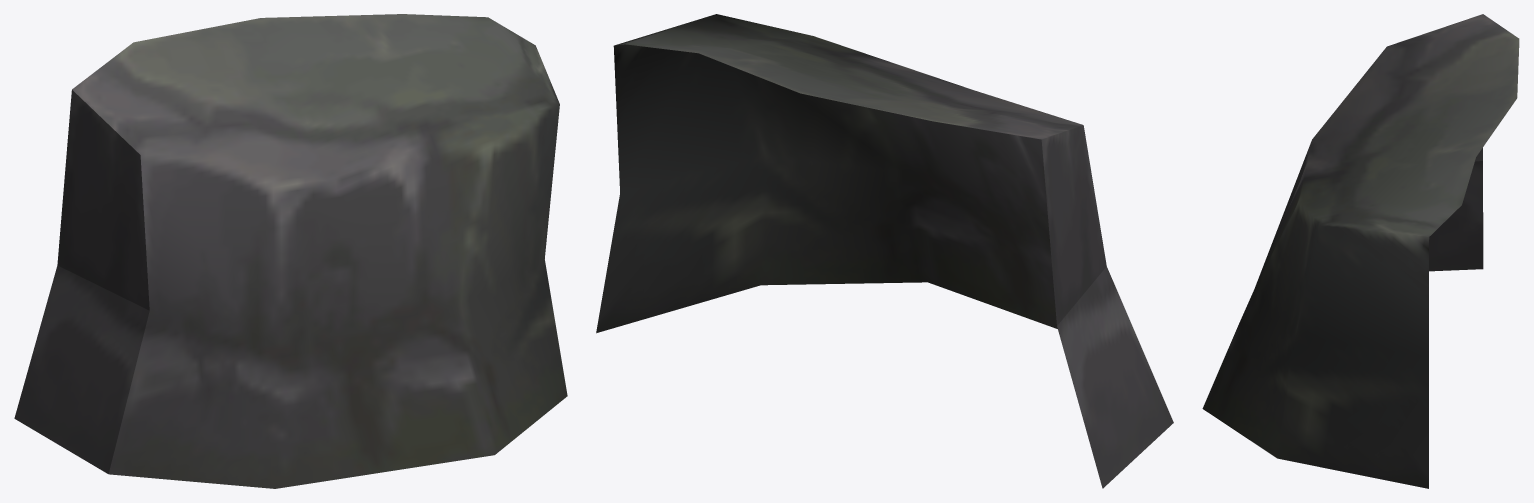
The model's file is yw_shanlin_stones_004.FBX.
The picture shows the model from 3 angles, left to right: view 1: azimuth 30°, elevation 25°; view 2: azimuth 150°, elevation 25°; view 3: azimuth 270°, elevation 25°; orthographic projection. The views are drawn at different scales.
Visible parts, largest first — view 1: yw_shanlin_stones_004; view 2: yw_shanlin_stones_004; view 3: yw_shanlin_stones_004.
Part boxes in pixels (x1,y1,x2,y2): yw_shanlin_stones_004: (14,14,567,488); yw_shanlin_stones_004: (596,14,1173,488); yw_shanlin_stones_004: (1202,14,1519,488).
Bounding box in the file's own units: 42.21 × 25.68 × 26.01.
